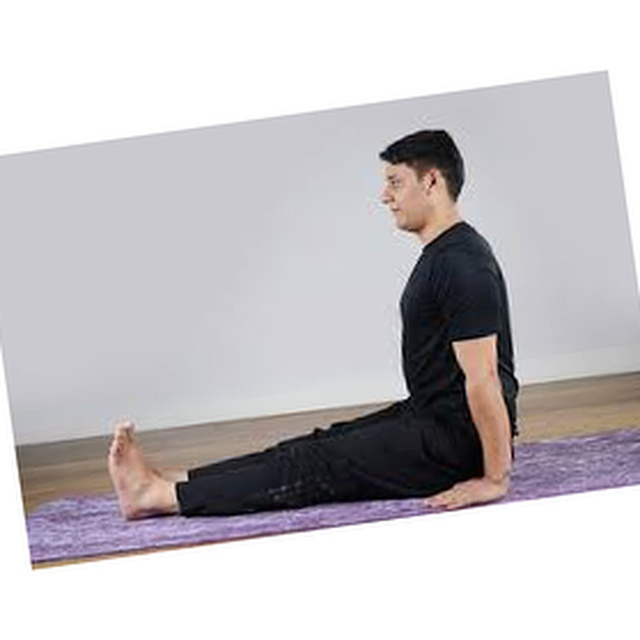Staff_Pose: (105, 128, 521, 523)
